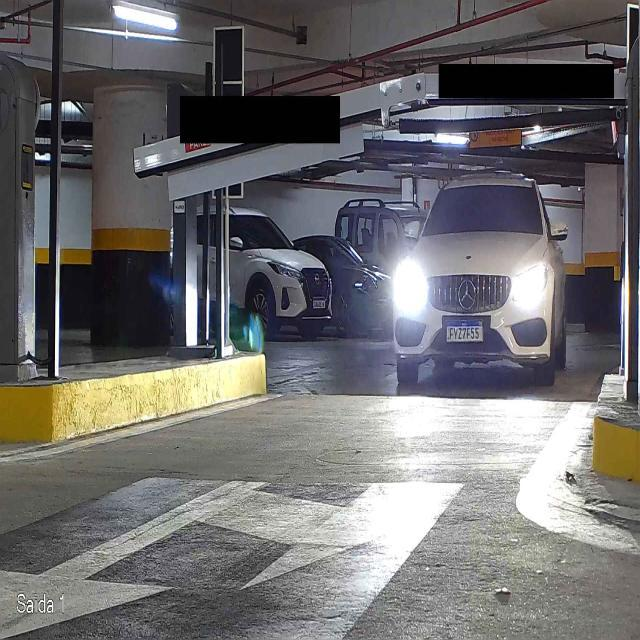mercosul_plate: (444, 320, 484, 344)
